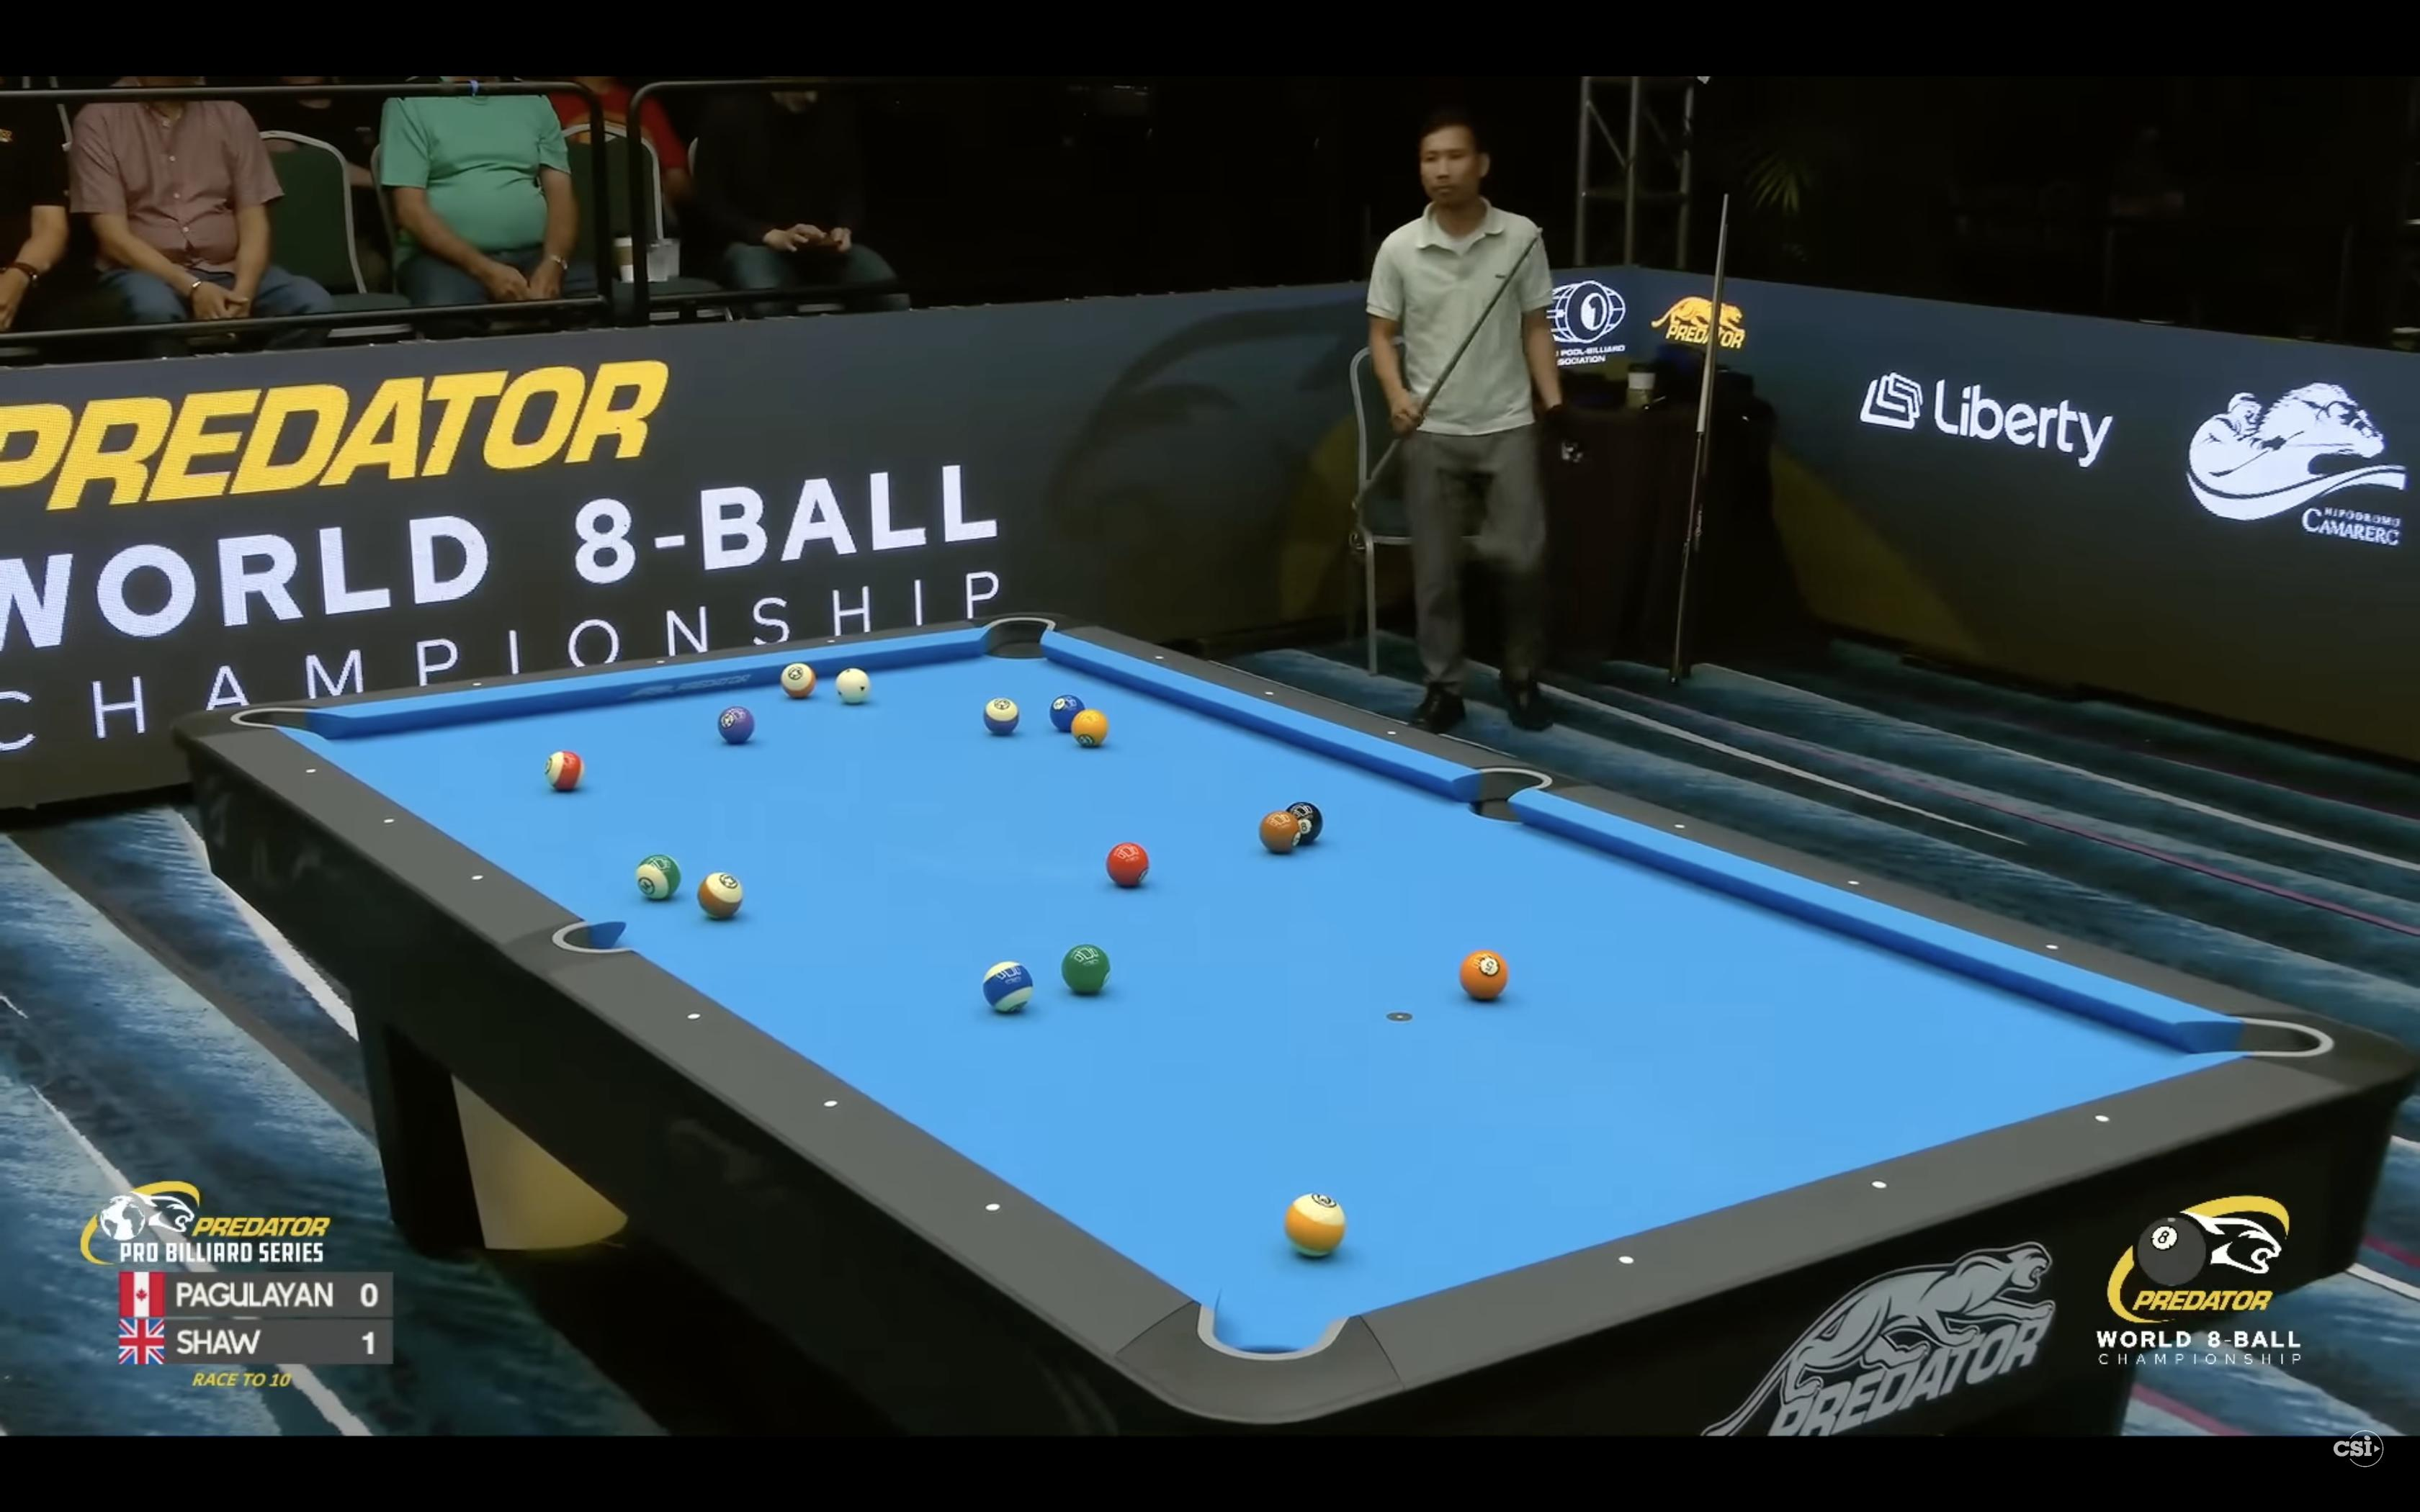Black: (1284, 801, 1324, 845)
Cue: (835, 667, 871, 704)
Dot: (984, 1202, 1002, 1214), (1617, 1254, 1634, 1265), (2094, 1113, 2112, 1124), (1871, 1179, 1887, 1190), (824, 1099, 838, 1110), (2044, 942, 2059, 951), (686, 1012, 702, 1021), (1845, 880, 1861, 887), (470, 874, 484, 881), (305, 766, 317, 773), (383, 817, 395, 824), (1674, 824, 1687, 829), (1263, 692, 1275, 697), (1153, 655, 1166, 660), (470, 681, 483, 686), (1387, 730, 1397, 735), (655, 658, 666, 664), (826, 639, 836, 643)
Solid: (1458, 949, 1514, 1003), (1059, 941, 1113, 996), (1103, 841, 1150, 887), (1258, 810, 1301, 854), (1070, 707, 1110, 749), (718, 705, 754, 746), (1049, 693, 1085, 732)
Striped: (1284, 1191, 1349, 1258), (979, 958, 1037, 1012), (634, 854, 683, 901), (697, 871, 744, 920), (544, 751, 585, 789), (779, 660, 817, 699), (983, 697, 1019, 735)
